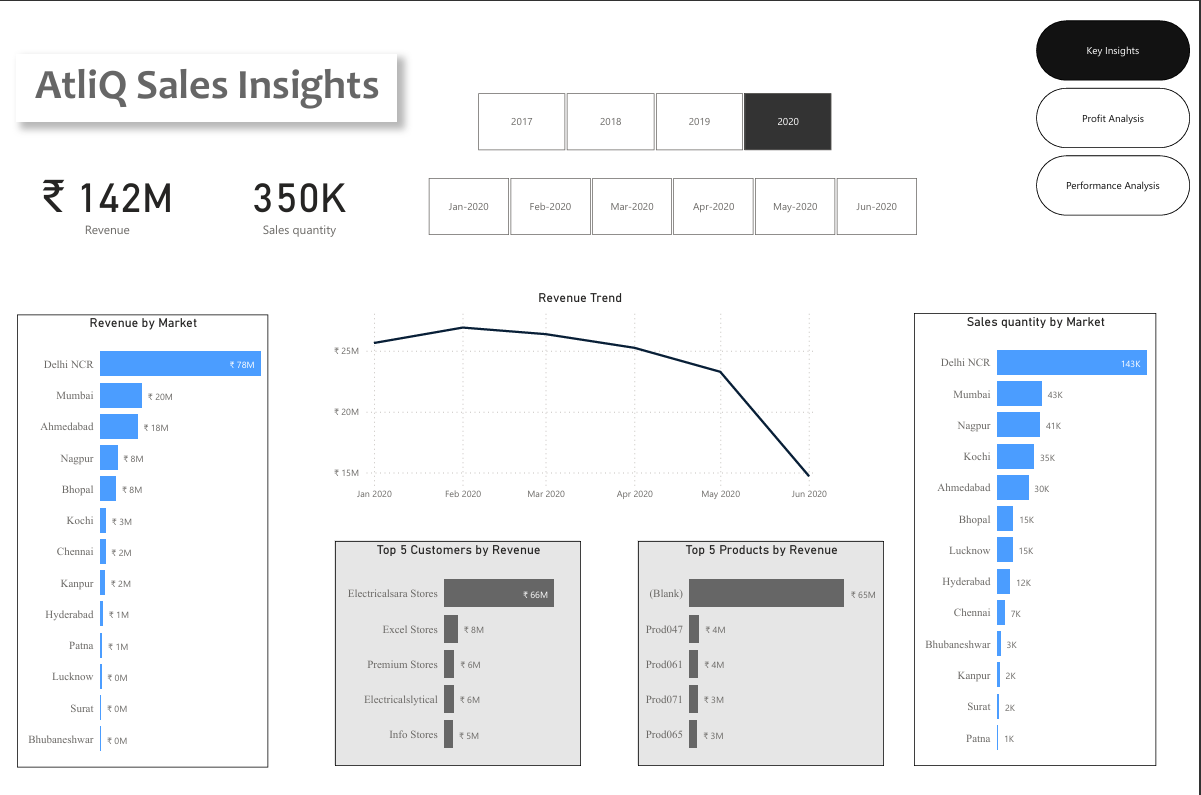

The page's visual inventory and layout, read from the dashboard file:
{"tool":"powerbi","page":{"name":"Key Insights","canvas":[1600,1050],"ordinal":0},"visuals":[{"type":"barChart","title":"Revenue by Market","fields":{"Category":["sales markets.markets_name"],"Y":["Base measure.Revenue"]},"box":[23.6,412.9,335.1,604],"z":0},{"type":"barChart","title":"Sales quantity by Market","fields":{"Category":["sales markets.markets_name"],"Y":["Base measure.Sales quantity"]},"box":[1219.9,410.6,323.2,604],"z":1000},{"type":"barChart","title":"Top 5 Customers by Revenue","fields":{"Category":["sales customers.custmer_name"],"Y":["Base measure.Revenue"]},"box":[448.3,714.9,328,299.7],"z":2000},{"type":"barChart","title":"Top 5 Products by Revenue","fields":{"Category":["sales products.product_code"],"Y":["Base measure.Revenue"]},"box":[851.8,714.9,328,299.7],"z":3000},{"type":"lineChart","title":"Revenue Trend","fields":{"Y":["Base measure.Revenue"],"Category":["sales date.cy_date.Variation.Date Hierarchy.Year","sales date.cy_date.Variation.Date Hierarchy.Quarter","sales date.cy_date.Variation.Date Hierarchy.Month","sales date.cy_date.Variation.Date Hierarchy.Day"]},"box":[441.2,379.9,667.8,290.2],"z":4000},{"type":"card","fields":{"Values":["Base measure.Revenue"]},"box":[23.6,179.3,240.7,165.2],"z":5000},{"type":"card","fields":{"Values":["Base measure.Sales quantity"]},"box":[311.5,179.3,179.3,165.2],"z":6000},{"type":"slicer","fields":{"Values":["sales date.year"]},"box":[613.5,110.9,521.5,89.7],"z":7000},{"type":"slicer","fields":{"Values":["sales date.cy_date"]},"box":[547.4,224.2,700.8,89.7],"z":8000},{"type":"pageNavigator","box":[1382.7,21.2,205,260],"z":9000},{"type":"textbox","box":[23.6,66.1,507.3,89.7],"z":9001}]}

Visuals, with their boxes in screenshot pixels (x1, y1, x2, y2), scaled from the page's 1600x1050 canvas onto the 1201x795 screenshot:
"Revenue by Market" barChart: bbox=[18, 313, 269, 770]
"Sales quantity by Market" barChart: bbox=[916, 311, 1158, 768]
"Top 5 Customers by Revenue" barChart: bbox=[337, 541, 583, 768]
"Top 5 Products by Revenue" barChart: bbox=[639, 541, 886, 768]
"Revenue Trend" lineChart: bbox=[331, 288, 832, 507]
card - Base measure.Revenue: bbox=[18, 136, 198, 261]
card - Base measure.Sales quantity: bbox=[234, 136, 368, 261]
slicer - sales date.year: bbox=[461, 84, 852, 152]
slicer - sales date.cy_date: bbox=[411, 170, 937, 238]
pageNavigator: bbox=[1038, 16, 1192, 213]
textbox: bbox=[18, 50, 399, 118]
